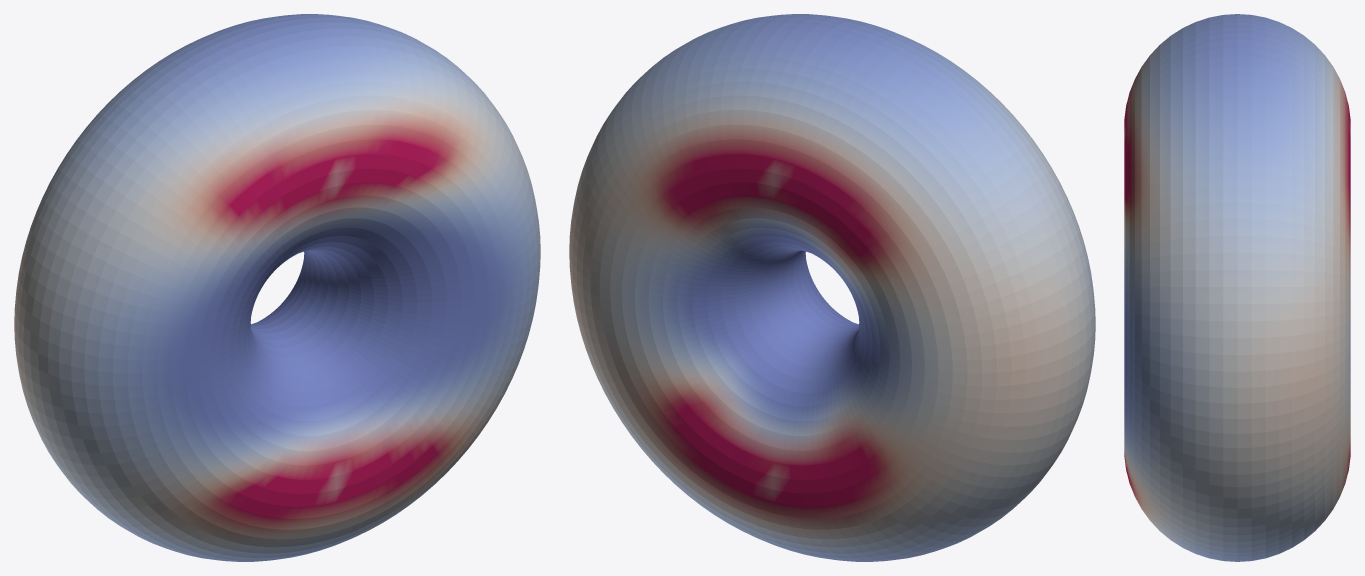
The picture shows the model from 3 angles, left to right: view 1: azimuth 30°, elevation 25°; view 2: azimuth 150°, elevation 25°; view 3: azimuth 270°, elevation 25°; orthographic projection. The views are drawn at different scales.
Parts seen in each view (by area): view 1: world; view 2: world; view 3: world.
Boxes of the visible parts, x1,y1,x2,y2 form: world: (14,14,540,561); world: (569,14,1095,561); world: (1124,14,1350,561).
Size of the model in its own units: 17.07 by 17.07 by 7.05.
